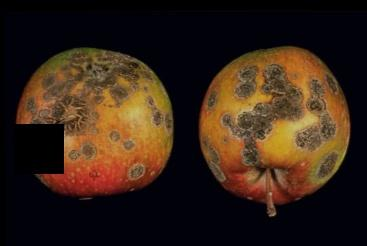rotten apple: (13, 43, 177, 208), (197, 42, 354, 208)
